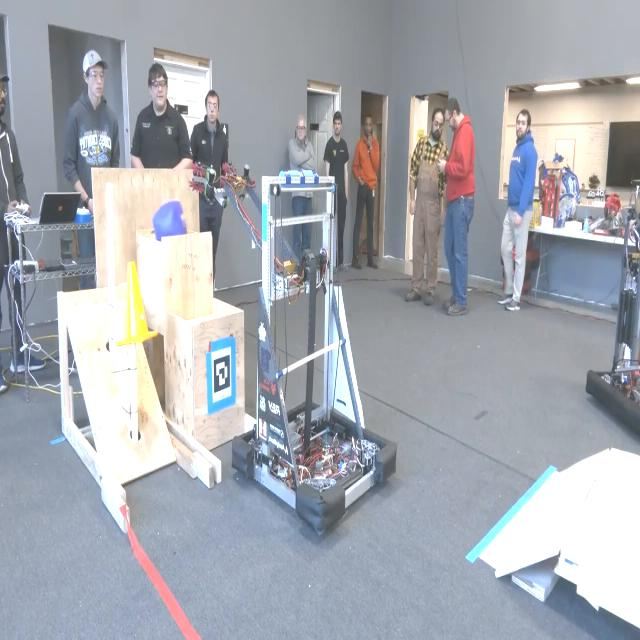frc_cone: (116, 254, 159, 354)
frc_cube: (152, 198, 188, 250)
